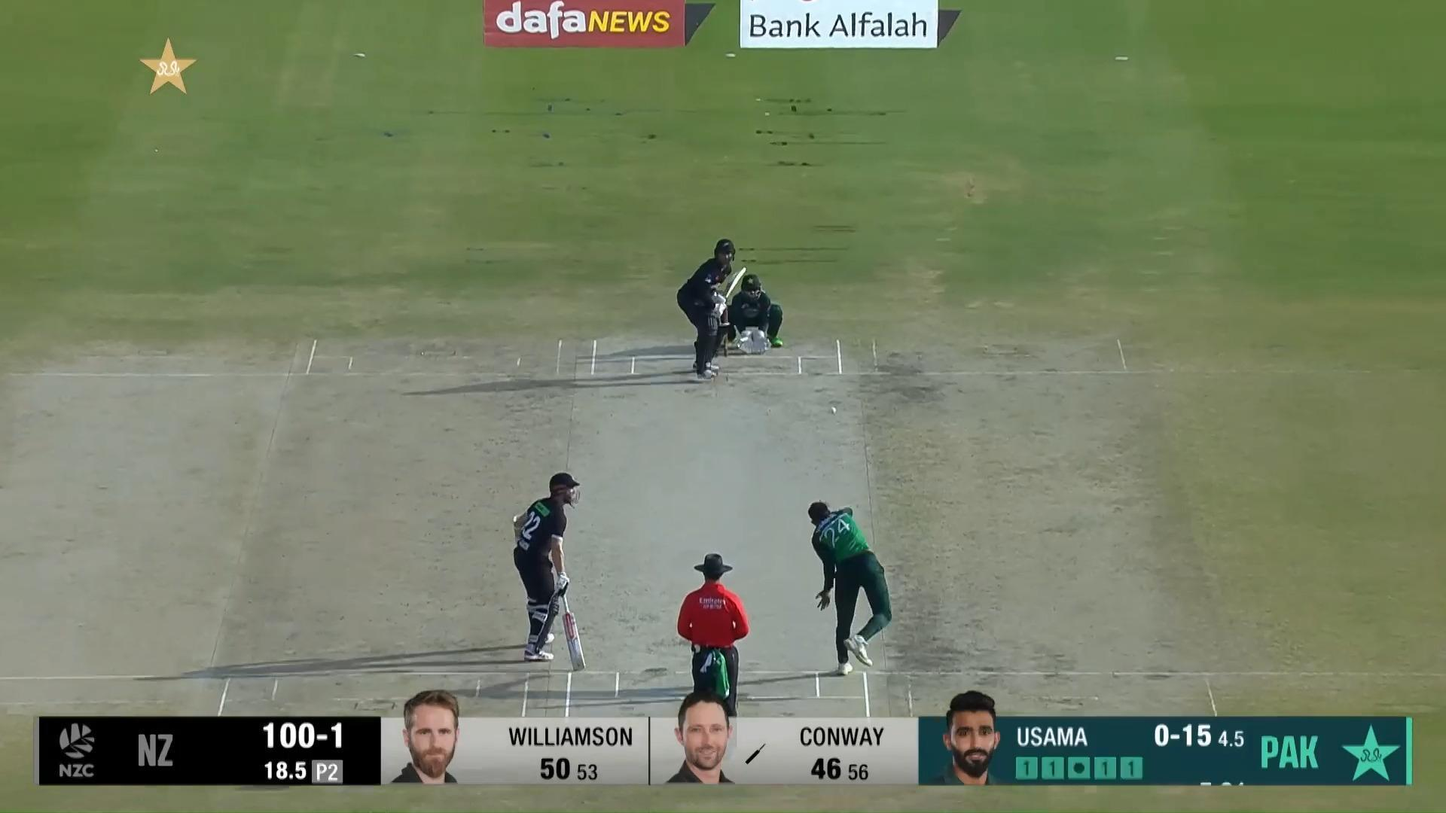BM 1: (676, 238, 747, 379)
BO: (808, 500, 892, 677)
